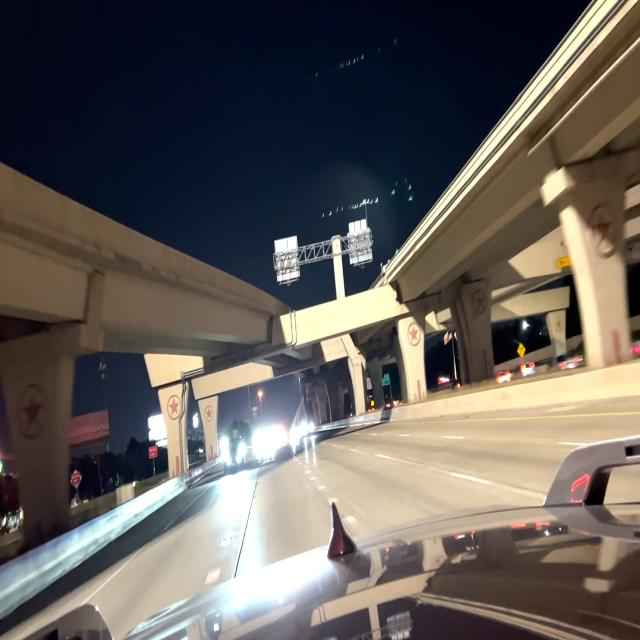back-of-sign: (348, 221, 374, 268), (275, 236, 300, 282)
